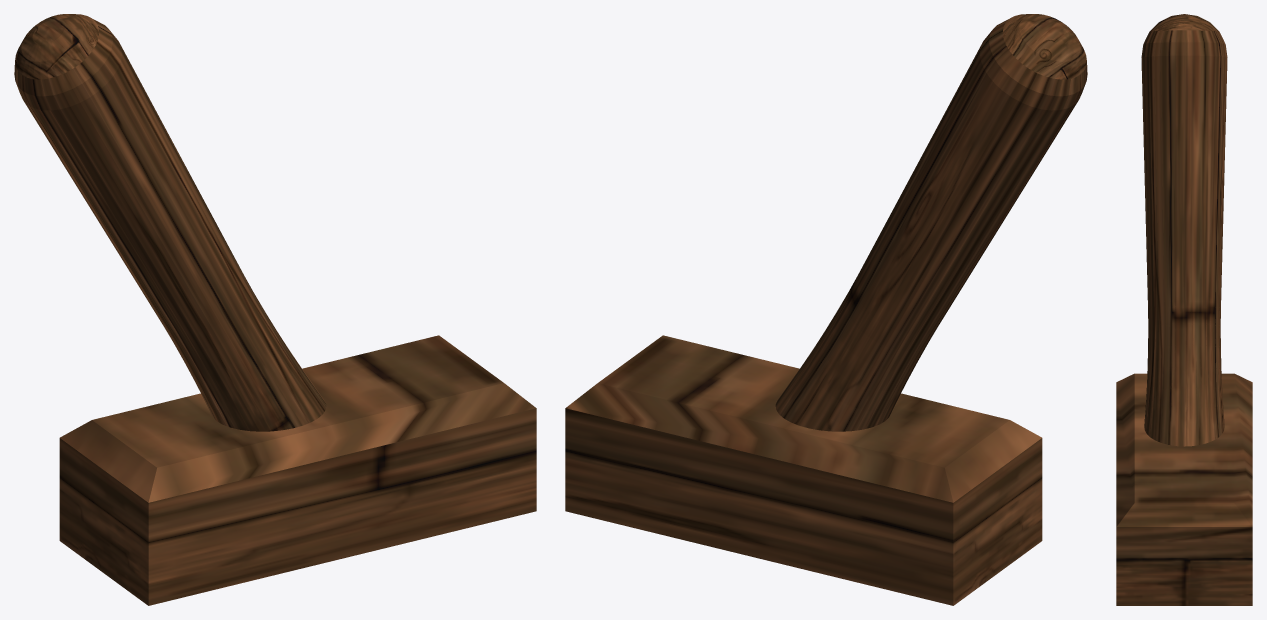
File: lever.fbx
The picture shows the model from 3 angles, left to right: view 1: azimuth 30°, elevation 25°; view 2: azimuth 150°, elevation 25°; view 3: azimuth 270°, elevation 25°; orthographic projection. The views are drawn at different scales.
Parts seen in each view (by area): view 1: LevelBox, Lever; view 2: LevelBox, Lever; view 3: Lever, LevelBox.
Boxes of the visible parts, x1,y1,x2,y2 form: LevelBox: (59,335,536,605); Lever: (14,14,326,431); LevelBox: (565,335,1042,605); Lever: (775,14,1087,431); Lever: (1141,14,1227,446); LevelBox: (1116,373,1252,605).
Bounding box in the file's own units: 137 × 156 × 44.77.
